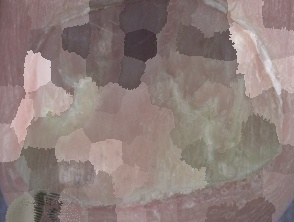Nail_psoriasis: (9, 0, 292, 218)
